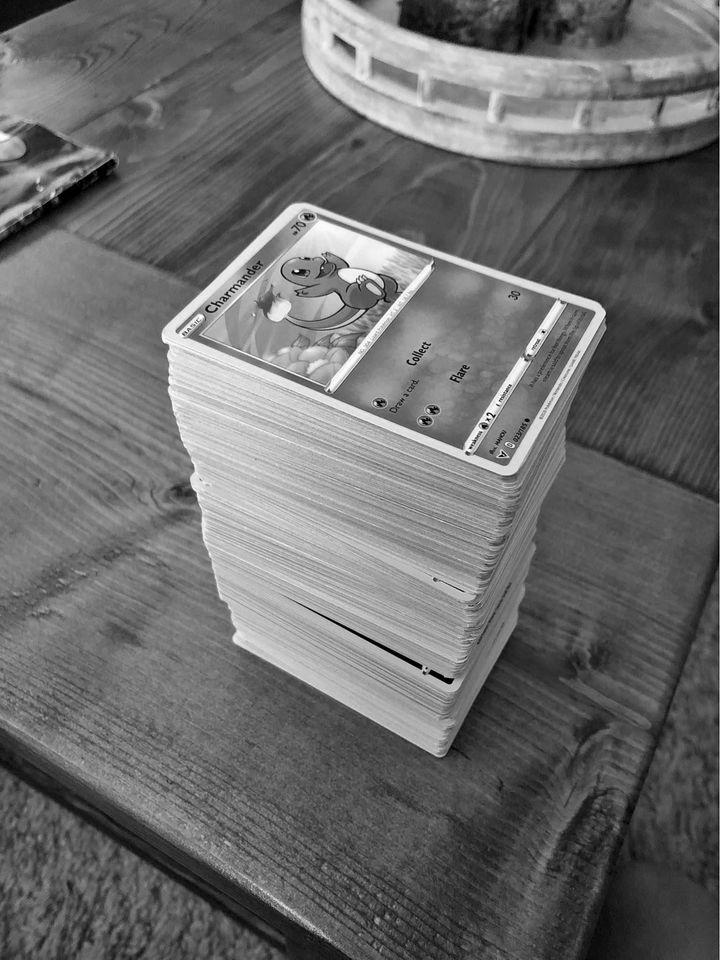card: (162, 201, 607, 477)
